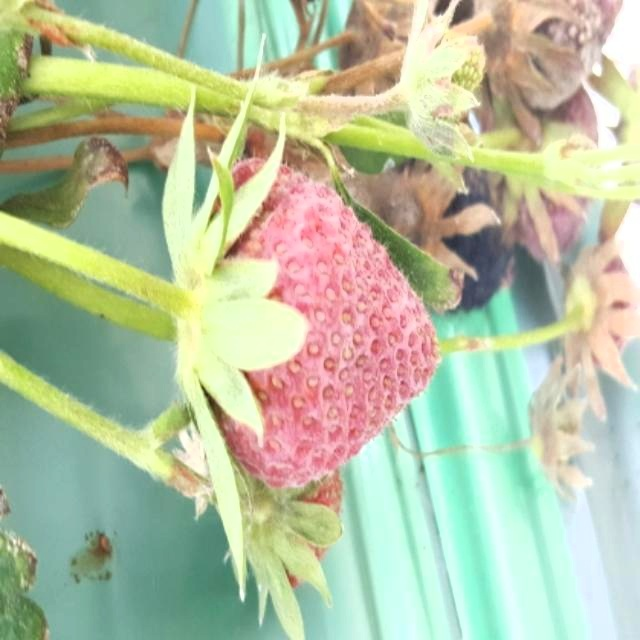Powdery Mildew Fruit: (177, 155, 444, 492)
